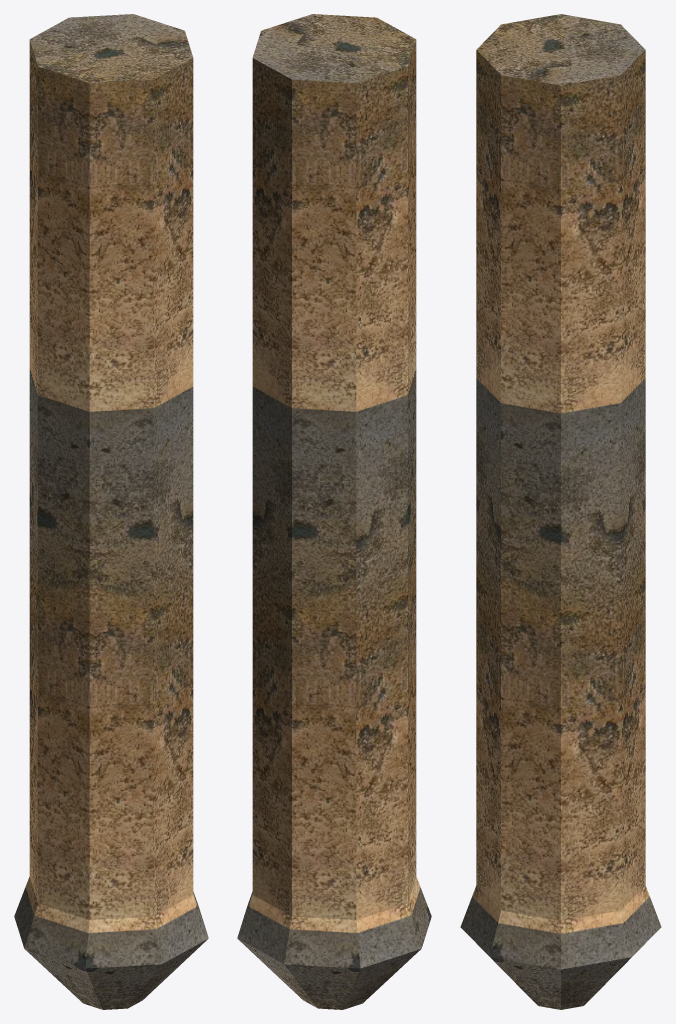
Rendered from badajo.obj.
3 views of the same model, side by side, from view 1: azimuth 30°, elevation 25°; view 2: azimuth 150°, elevation 25°; view 3: azimuth 270°, elevation 25° (orthographic).
Visible parts, largest first — view 1: Cylinder.001; view 2: Cylinder.001; view 3: Cylinder.001.
Boxes of the visible parts, bbox=[...] form: Cylinder.001: bbox=[14, 14, 208, 1009]; Cylinder.001: bbox=[237, 14, 431, 1009]; Cylinder.001: bbox=[460, 14, 661, 1009].
Size of the model in its own units: 0.0268 by 0.1394 by 0.0268.
Materials: 1 (1 with a texture image).
